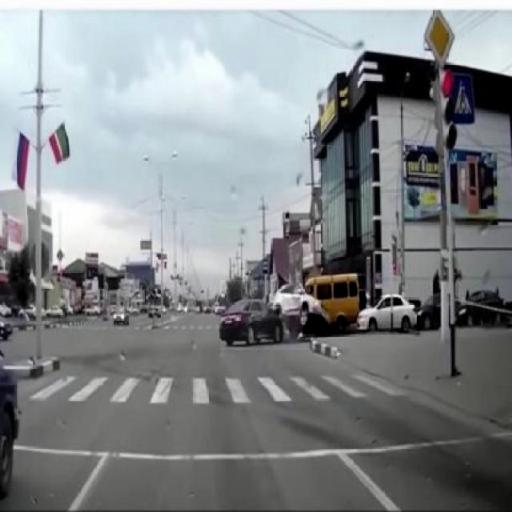小汽车: (303, 276, 365, 334), (359, 297, 420, 335)
小汽车撞小汽车: (220, 280, 316, 350)
